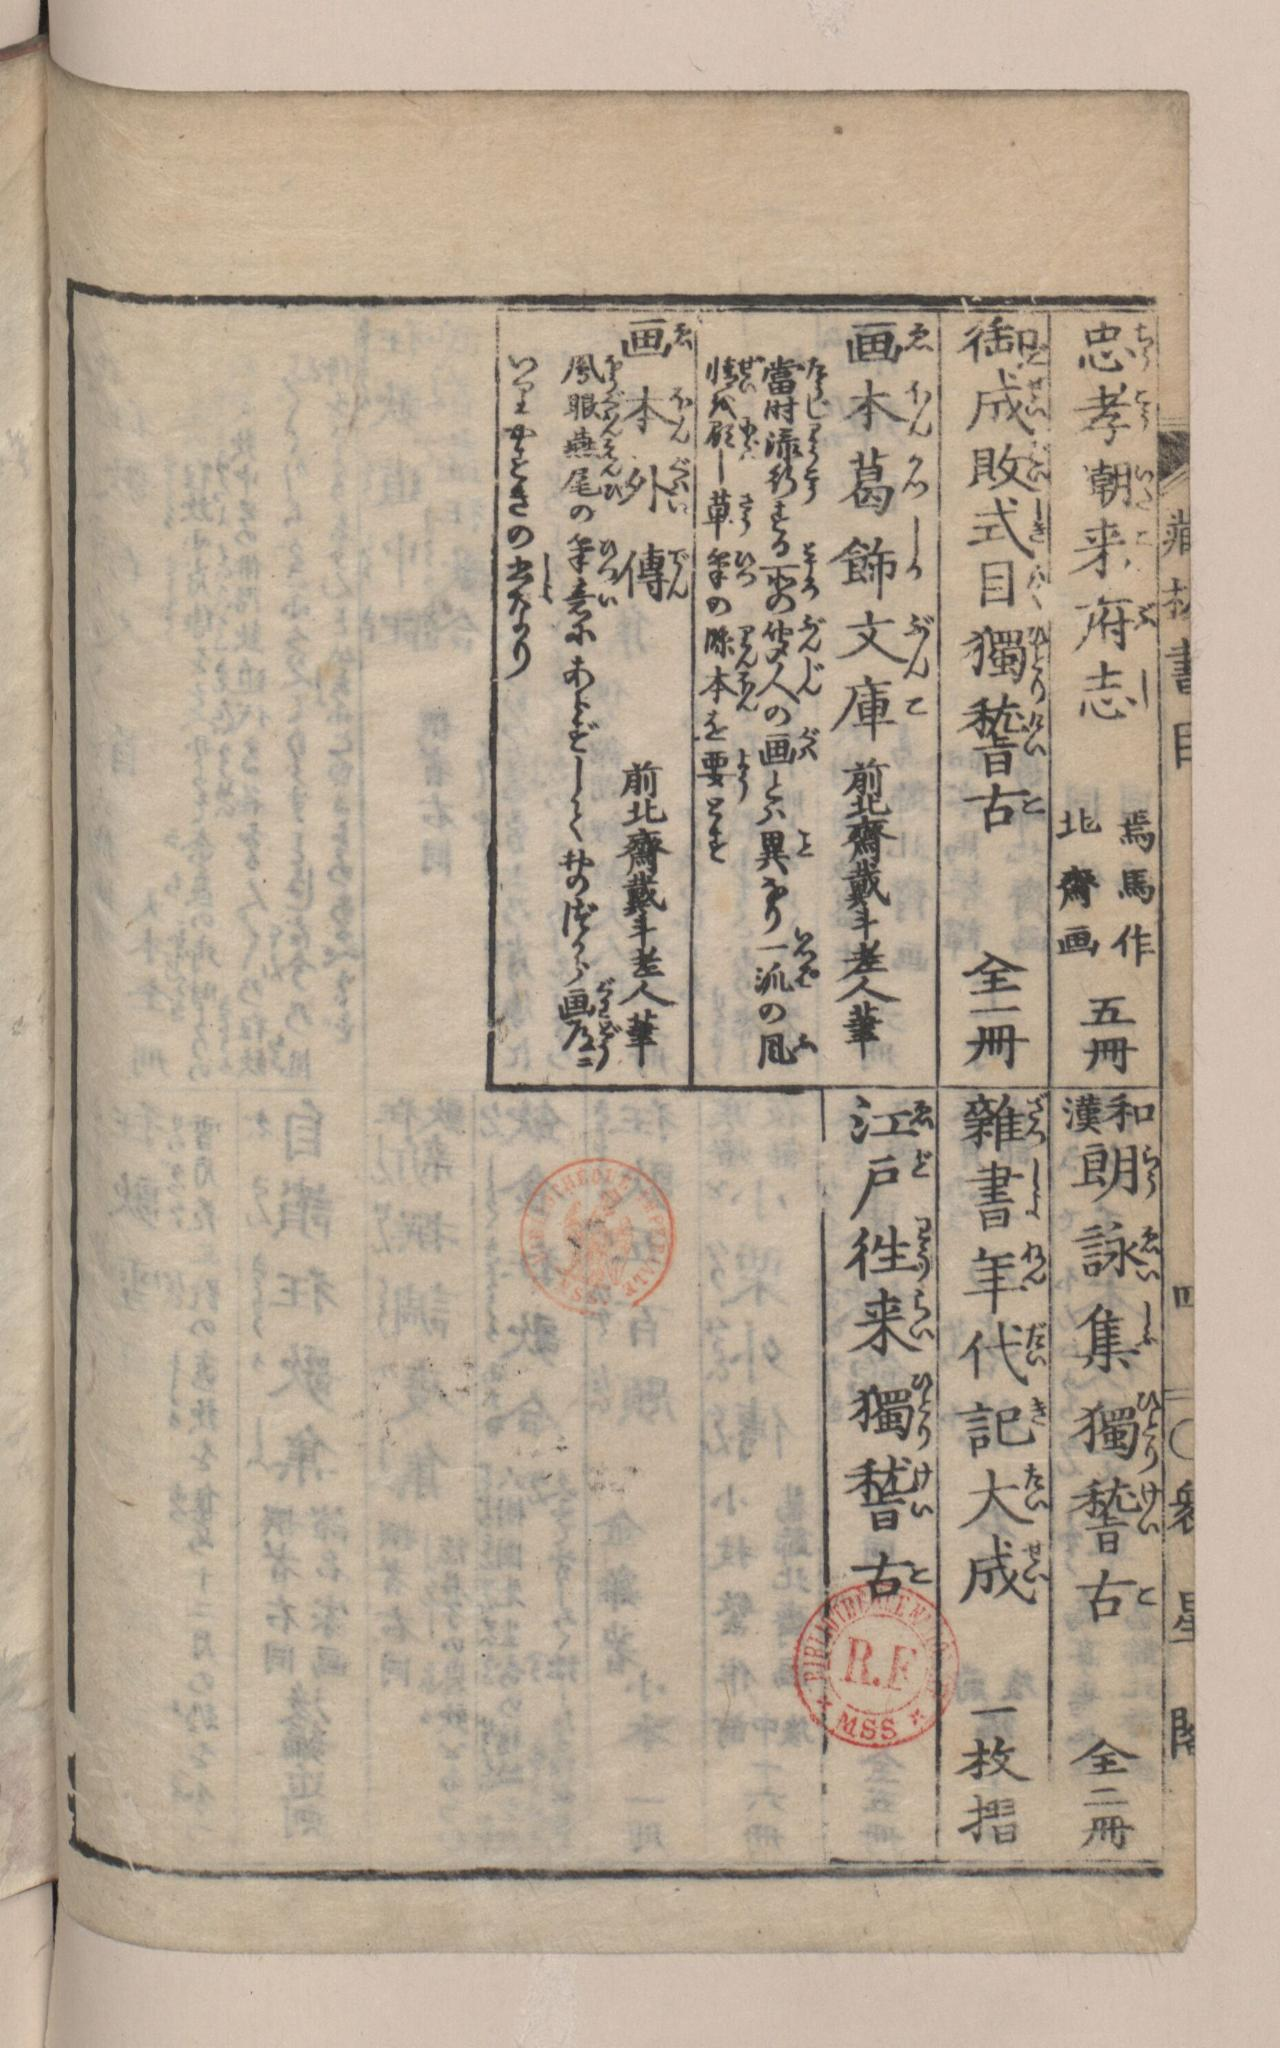MainZone-Character: (835, 515, 936, 594), (1071, 1382, 1162, 1470), (1068, 1287, 1164, 1368), (844, 1452, 938, 1533), (1068, 1474, 1162, 1556), (960, 696, 1053, 777), (845, 1368, 938, 1449), (956, 1533, 1054, 1609), (951, 1458, 1051, 1532), (839, 605, 935, 681), (959, 1237, 1051, 1315), (957, 1317, 1051, 1390), (961, 625, 1051, 702), (848, 1287, 938, 1359), (951, 1392, 1053, 1455), (963, 1156, 1048, 1231), (835, 680, 935, 742), (839, 445, 931, 513), (1072, 382, 1158, 454), (1071, 1212, 1159, 1281), (842, 1212, 933, 1278), (1071, 659, 1159, 727), (956, 373, 1050, 436), (1066, 518, 1155, 584), (1063, 1141, 1162, 1200), (836, 1146, 932, 1205), (953, 313, 1053, 369), (961, 556, 1054, 616), (848, 377, 938, 439), (957, 1090, 1047, 1152), (1069, 1560, 1158, 1622), (1066, 594, 1161, 652), (616, 535, 695, 603), (836, 314, 935, 367), (961, 438, 1053, 494), (1057, 1087, 1161, 1135), (1074, 318, 1158, 377), (963, 497, 1050, 553), (845, 1545, 931, 1601), (1075, 456, 1159, 512), (961, 783, 1050, 836), (764, 541, 827, 613), (625, 454, 693, 516), (625, 385, 695, 444), (553, 1019, 622, 1076), (846, 1094, 933, 1138), (748, 1028, 826, 1072), (759, 661, 829, 708), (622, 316, 698, 358), (761, 613, 830, 659), (699, 485, 758, 537), (498, 553, 559, 603), (756, 727, 827, 770), (755, 827, 815, 874), (754, 957, 824, 997), (702, 621, 759, 669), (703, 543, 761, 590), (703, 414, 767, 457), (698, 746, 751, 796), (557, 352, 622, 392), (554, 976, 616, 1017), (700, 668, 758, 712), (767, 464, 826, 507), (563, 534, 616, 581), (562, 394, 624, 433), (761, 352, 827, 389), (560, 462, 625, 498), (563, 578, 619, 619), (754, 926, 821, 960), (705, 354, 764, 392), (765, 422, 821, 462), (557, 429, 624, 459), (761, 394, 830, 419)
MainZone-Ruby: (902, 609, 933, 681), (900, 516, 928, 590), (1137, 1385, 1161, 1471), (910, 1373, 936, 1443), (904, 379, 935, 439), (1018, 1460, 1051, 1514), (668, 385, 696, 445), (908, 1289, 936, 1348), (1025, 625, 1047, 697), (1025, 1091, 1051, 1150), (908, 1213, 931, 1283), (911, 1460, 935, 1525), (665, 544, 690, 605), (1020, 1538, 1051, 1586), (594, 1020, 621, 1075), (667, 456, 692, 513), (1025, 1317, 1051, 1368), (1137, 1222, 1159, 1283), (795, 615, 826, 658), (793, 662, 829, 699), (1140, 1477, 1161, 1539), (898, 451, 928, 494), (801, 540, 821, 600), (1026, 1157, 1046, 1222), (1138, 1298, 1161, 1352), (1022, 444, 1051, 484), (1023, 1240, 1048, 1286), (1133, 460, 1155, 512), (905, 318, 936, 355), (1026, 375, 1050, 422), (733, 547, 758, 591), (1140, 1143, 1159, 1200), (1028, 559, 1048, 610), (736, 357, 764, 394), (734, 491, 756, 537), (737, 624, 758, 672), (792, 961, 826, 991), (1026, 705, 1046, 756), (600, 391, 622, 435), (739, 414, 762, 456), (1029, 495, 1048, 546), (790, 926, 820, 958), (593, 975, 616, 1014), (599, 462, 622, 501), (1134, 321, 1153, 369), (807, 352, 830, 391), (910, 1149, 935, 1183), (1028, 1392, 1050, 1430), (736, 749, 752, 801), (795, 1031, 823, 1060), (1135, 599, 1158, 635), (737, 672, 756, 714), (1135, 663, 1152, 712), (1025, 342, 1053, 370), (911, 1094, 933, 1129), (907, 1564, 936, 1591), (1133, 386, 1152, 426), (543, 554, 557, 606), (799, 727, 821, 761), (1131, 1100, 1158, 1128), (1020, 792, 1046, 821), (804, 422, 823, 460), (802, 464, 820, 506), (672, 320, 695, 352), (901, 690, 928, 717), (599, 537, 616, 577), (793, 827, 814, 861), (603, 354, 624, 388), (1135, 1581, 1158, 1610), (804, 395, 830, 419), (596, 587, 618, 609), (1134, 526, 1149, 551), (599, 436, 615, 456)
